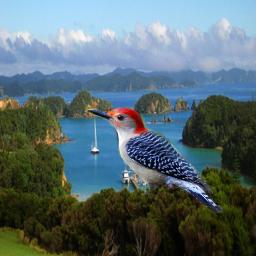Woodpecker: (87, 107, 223, 213)
